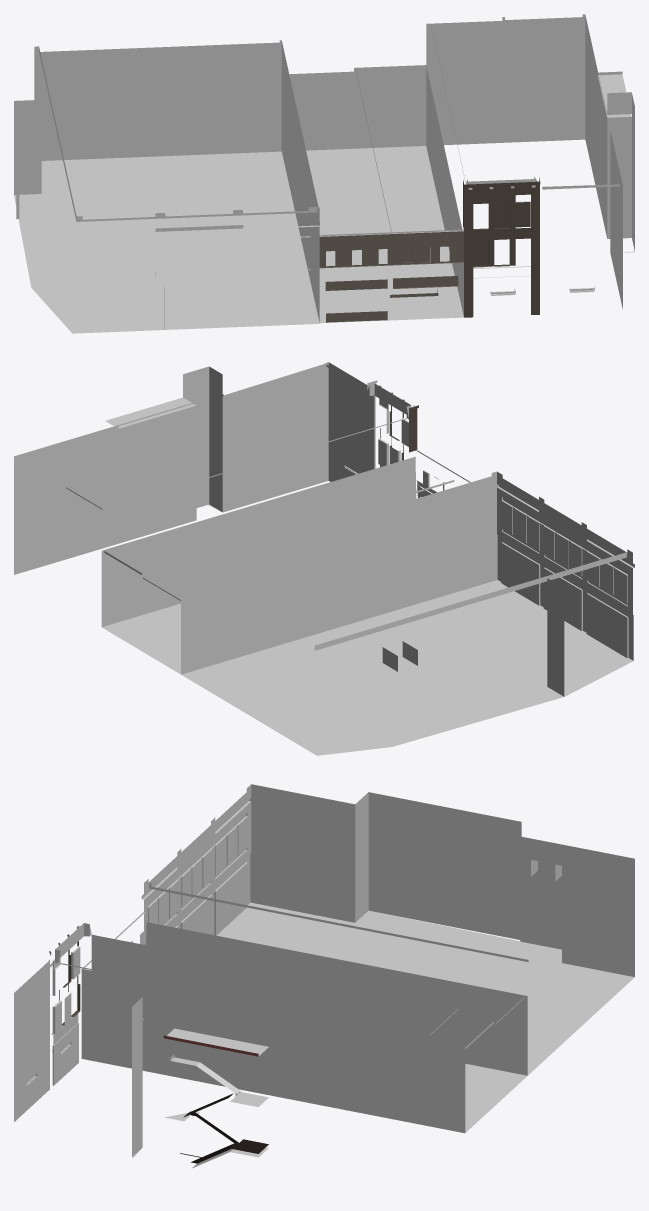
File: 45-55-east-main.glb
3 views of the same model, one above another, from view 1: azimuth 30°, elevation 25°; view 2: azimuth 150°, elevation 25°; view 3: azimuth 270°, elevation 25° (orthographic). The views are drawn at different scales.
Visible parts, largest first — view 1: LOD0; view 2: LOD0; view 3: LOD0.
Part boxes in pixels (x1,y1,x2,y2): LOD0: [14, 14, 634, 333]; LOD0: [14, 362, 634, 755]; LOD0: [14, 784, 634, 1168].
Size of what is drawn, in the model's own units: 66.55 by 15.86 by 59.3.
Materials: 2 (2 with a texture image).
